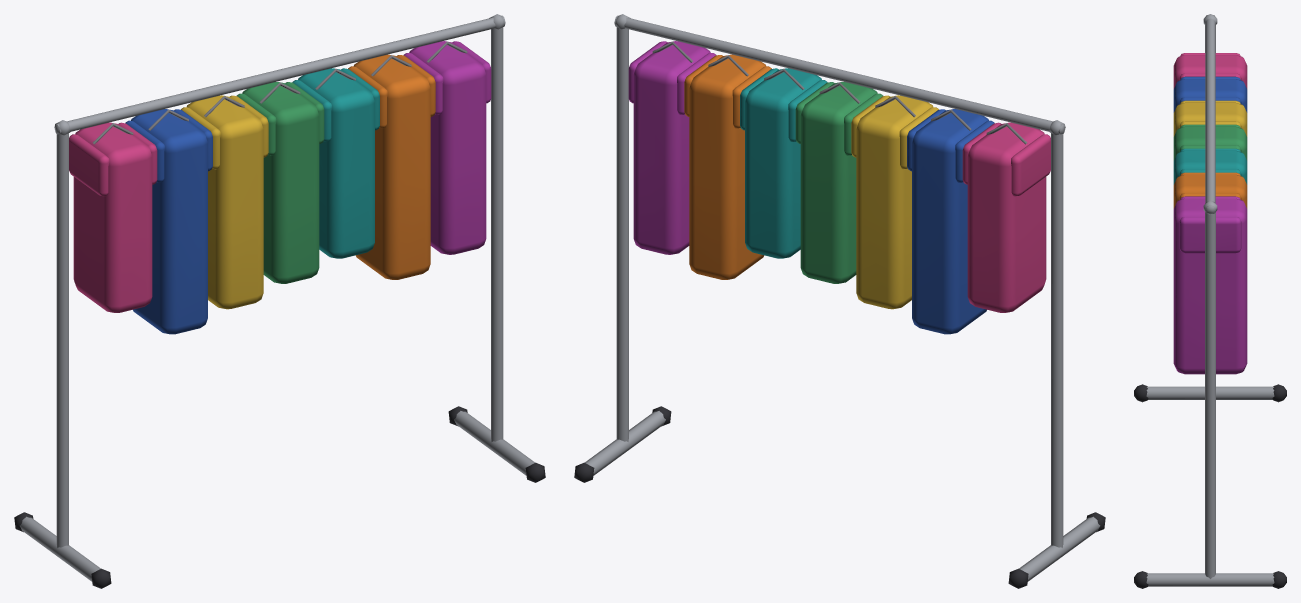
The model's file is furn_clothes_rack.glb.
3 renders of one model, left to right at view 1: azimuth 30°, elevation 25°; view 2: azimuth 150°, elevation 25°; view 3: azimuth 270°, elevation 25°, orthographic. The views are drawn at different scales.
Parts seen in each view (by area): view 1: furn_clothes_rack_main; view 2: furn_clothes_rack_main; view 3: furn_clothes_rack_main.
Part boxes in pixels (x1=…): furn_clothes_rack_main: x1=14, y1=14, x2=545, y2=588; furn_clothes_rack_main: x1=574, y1=14, x2=1105, y2=588; furn_clothes_rack_main: x1=1134, y1=14, x2=1286, y2=588.
Size of the model in its own units: 1.62 by 1.51 by 0.5395.
